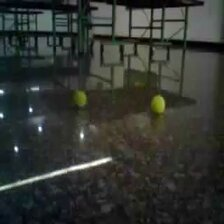tennis: (149, 94, 165, 115), (73, 90, 88, 109)
